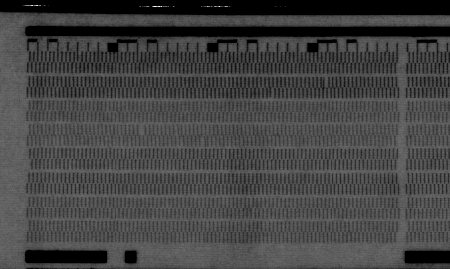Broken hole: (136, 124, 148, 137)
Oblique printing: (265, 87, 279, 102), (198, 136, 210, 148), (320, 76, 330, 89)
